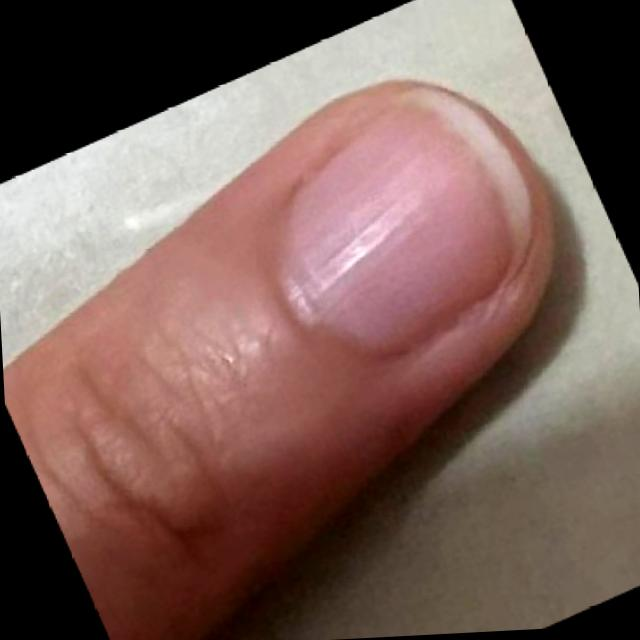Nail: (286, 90, 529, 359)
